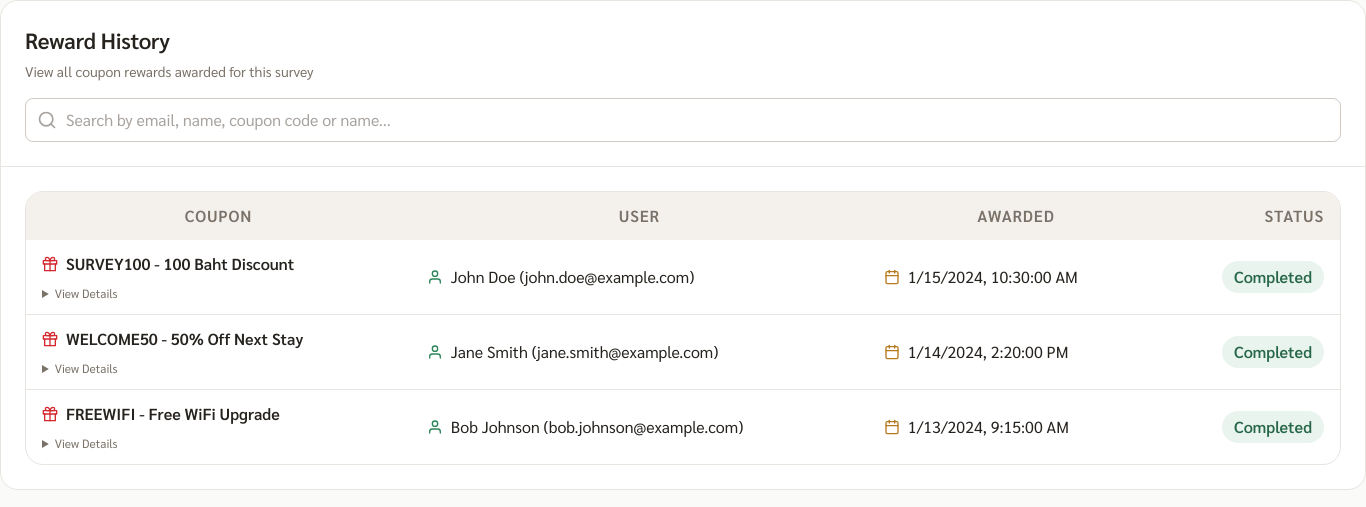
Test: SurveyRewardHistory › Search Functionality - Email › should filter case-insensitively by email
The image size is (1366, 507).
Check: the text "John Doe (john.doe@example.com)" is shown, box [451,265,694,289]
Type "JOHN.DOE@EXAMPLE.COM" into the field with placeholder "Search by email, name, coupon code or name..." at x=683, y=120, box [25,98,1341,142]
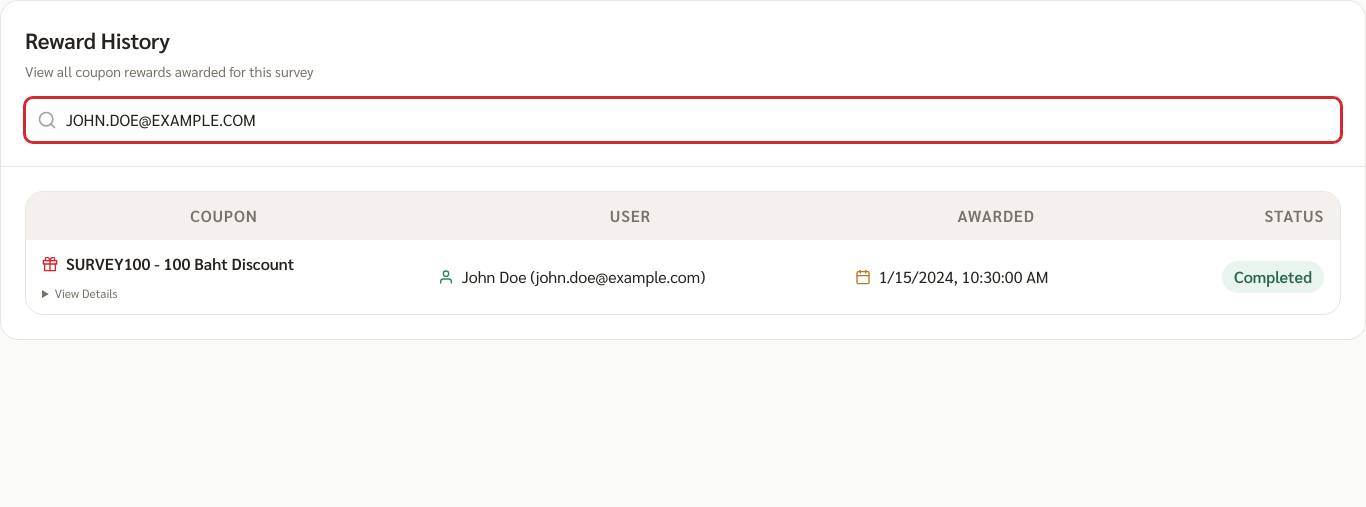
Check: the text "John Doe (john.doe@example.com)" is shown, box [462,265,705,289]
Check: the text "Jane Smith" is gone
